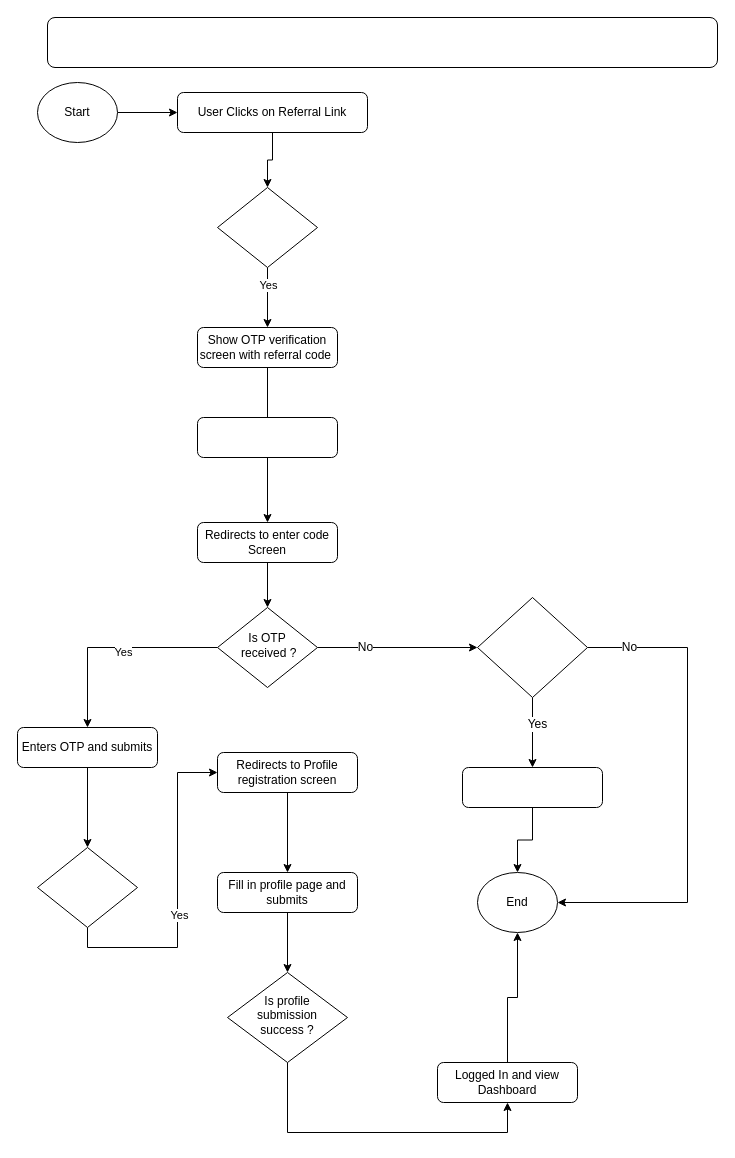
Image size: 735x1158. Some labels were removed from this diagram. The shapes that lost their labels are listed below. From the top down, each one's box as (x1, y1, x2, y2) in pixels, then its label:
(46, 16, 718, 68): Referral Login / Registration Flow
(216, 186, 318, 268): Is App installed ?
(196, 416, 338, 458): Enters Mobile number to get OTP
(476, 596, 588, 698): Is user goes cancel ?
(462, 766, 602, 808): Redirect to login page
(36, 846, 138, 928): Is OTP verification success ?
